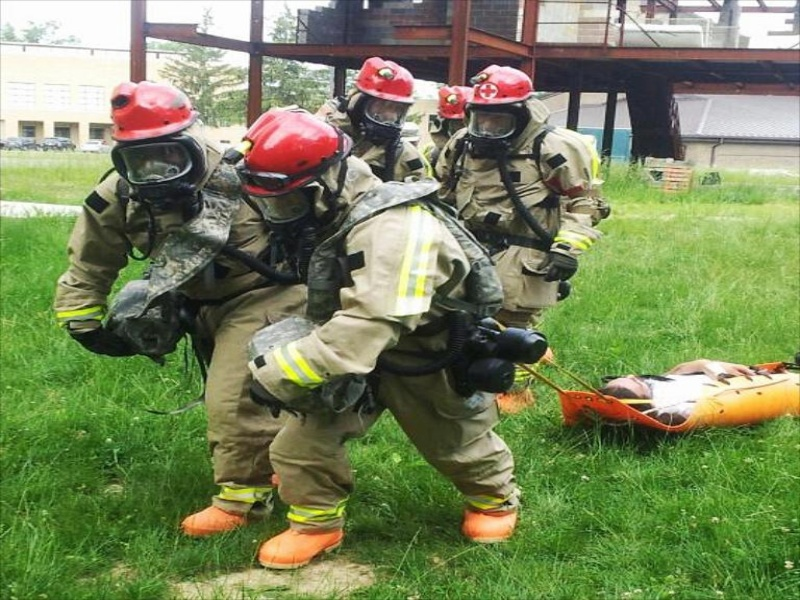helmet: (240, 109, 354, 194), (111, 81, 200, 139), (357, 57, 413, 101), (472, 66, 533, 102), (438, 84, 474, 118)
